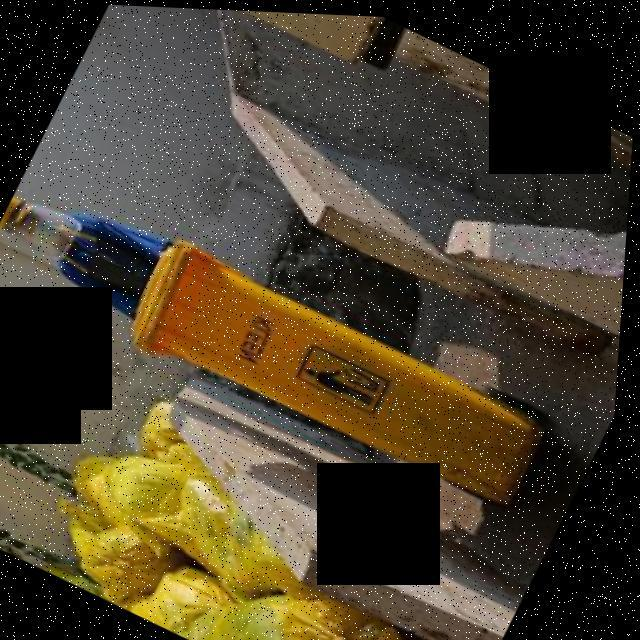bin: (101, 216, 592, 536)
